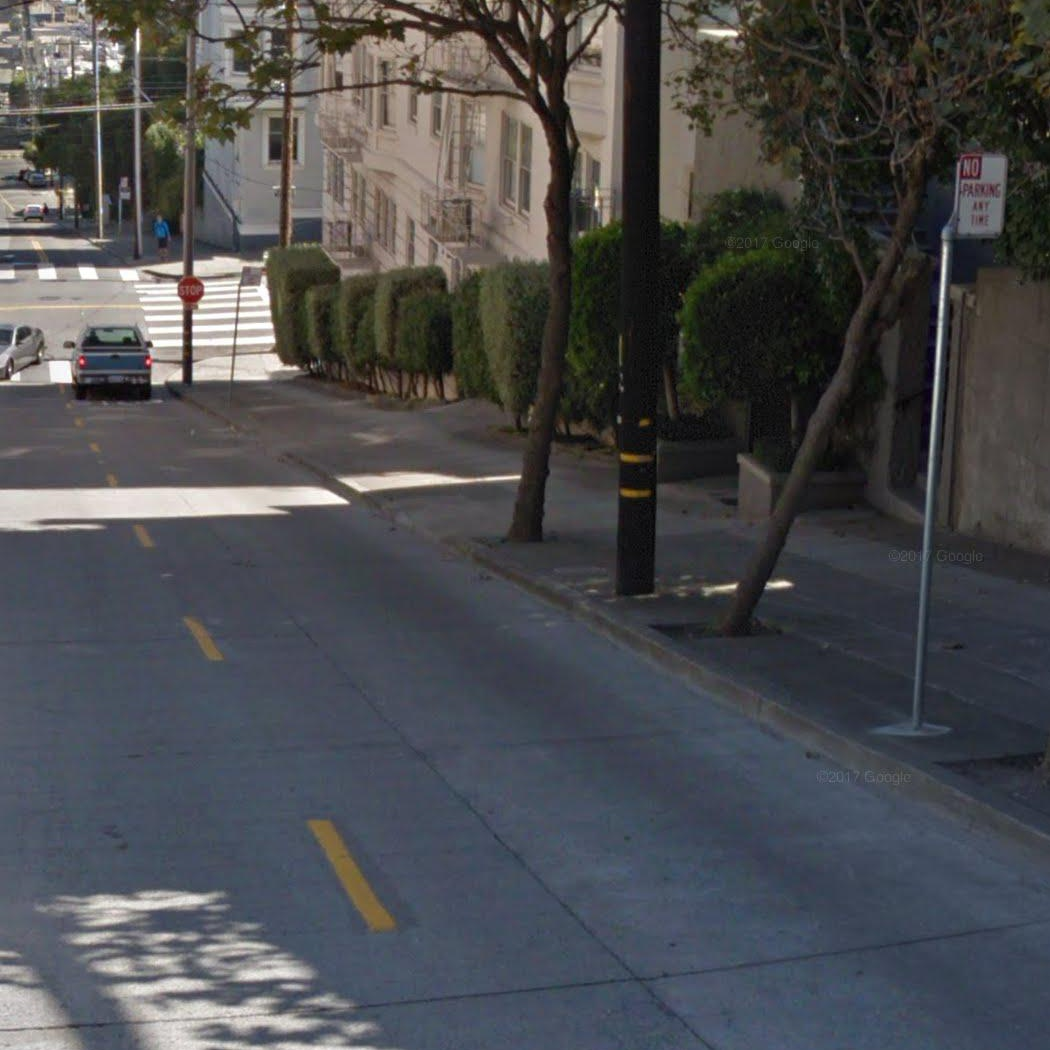No Parking Anytime: (954, 152, 1009, 239)
